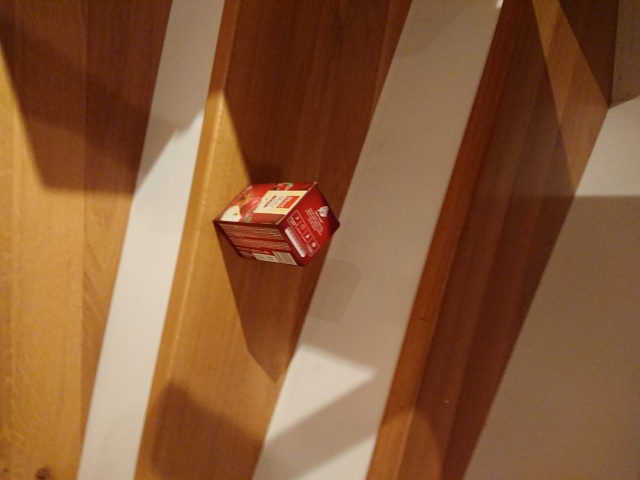Franck Apple Cinnamon Tea 60g: (209, 177, 343, 270)
